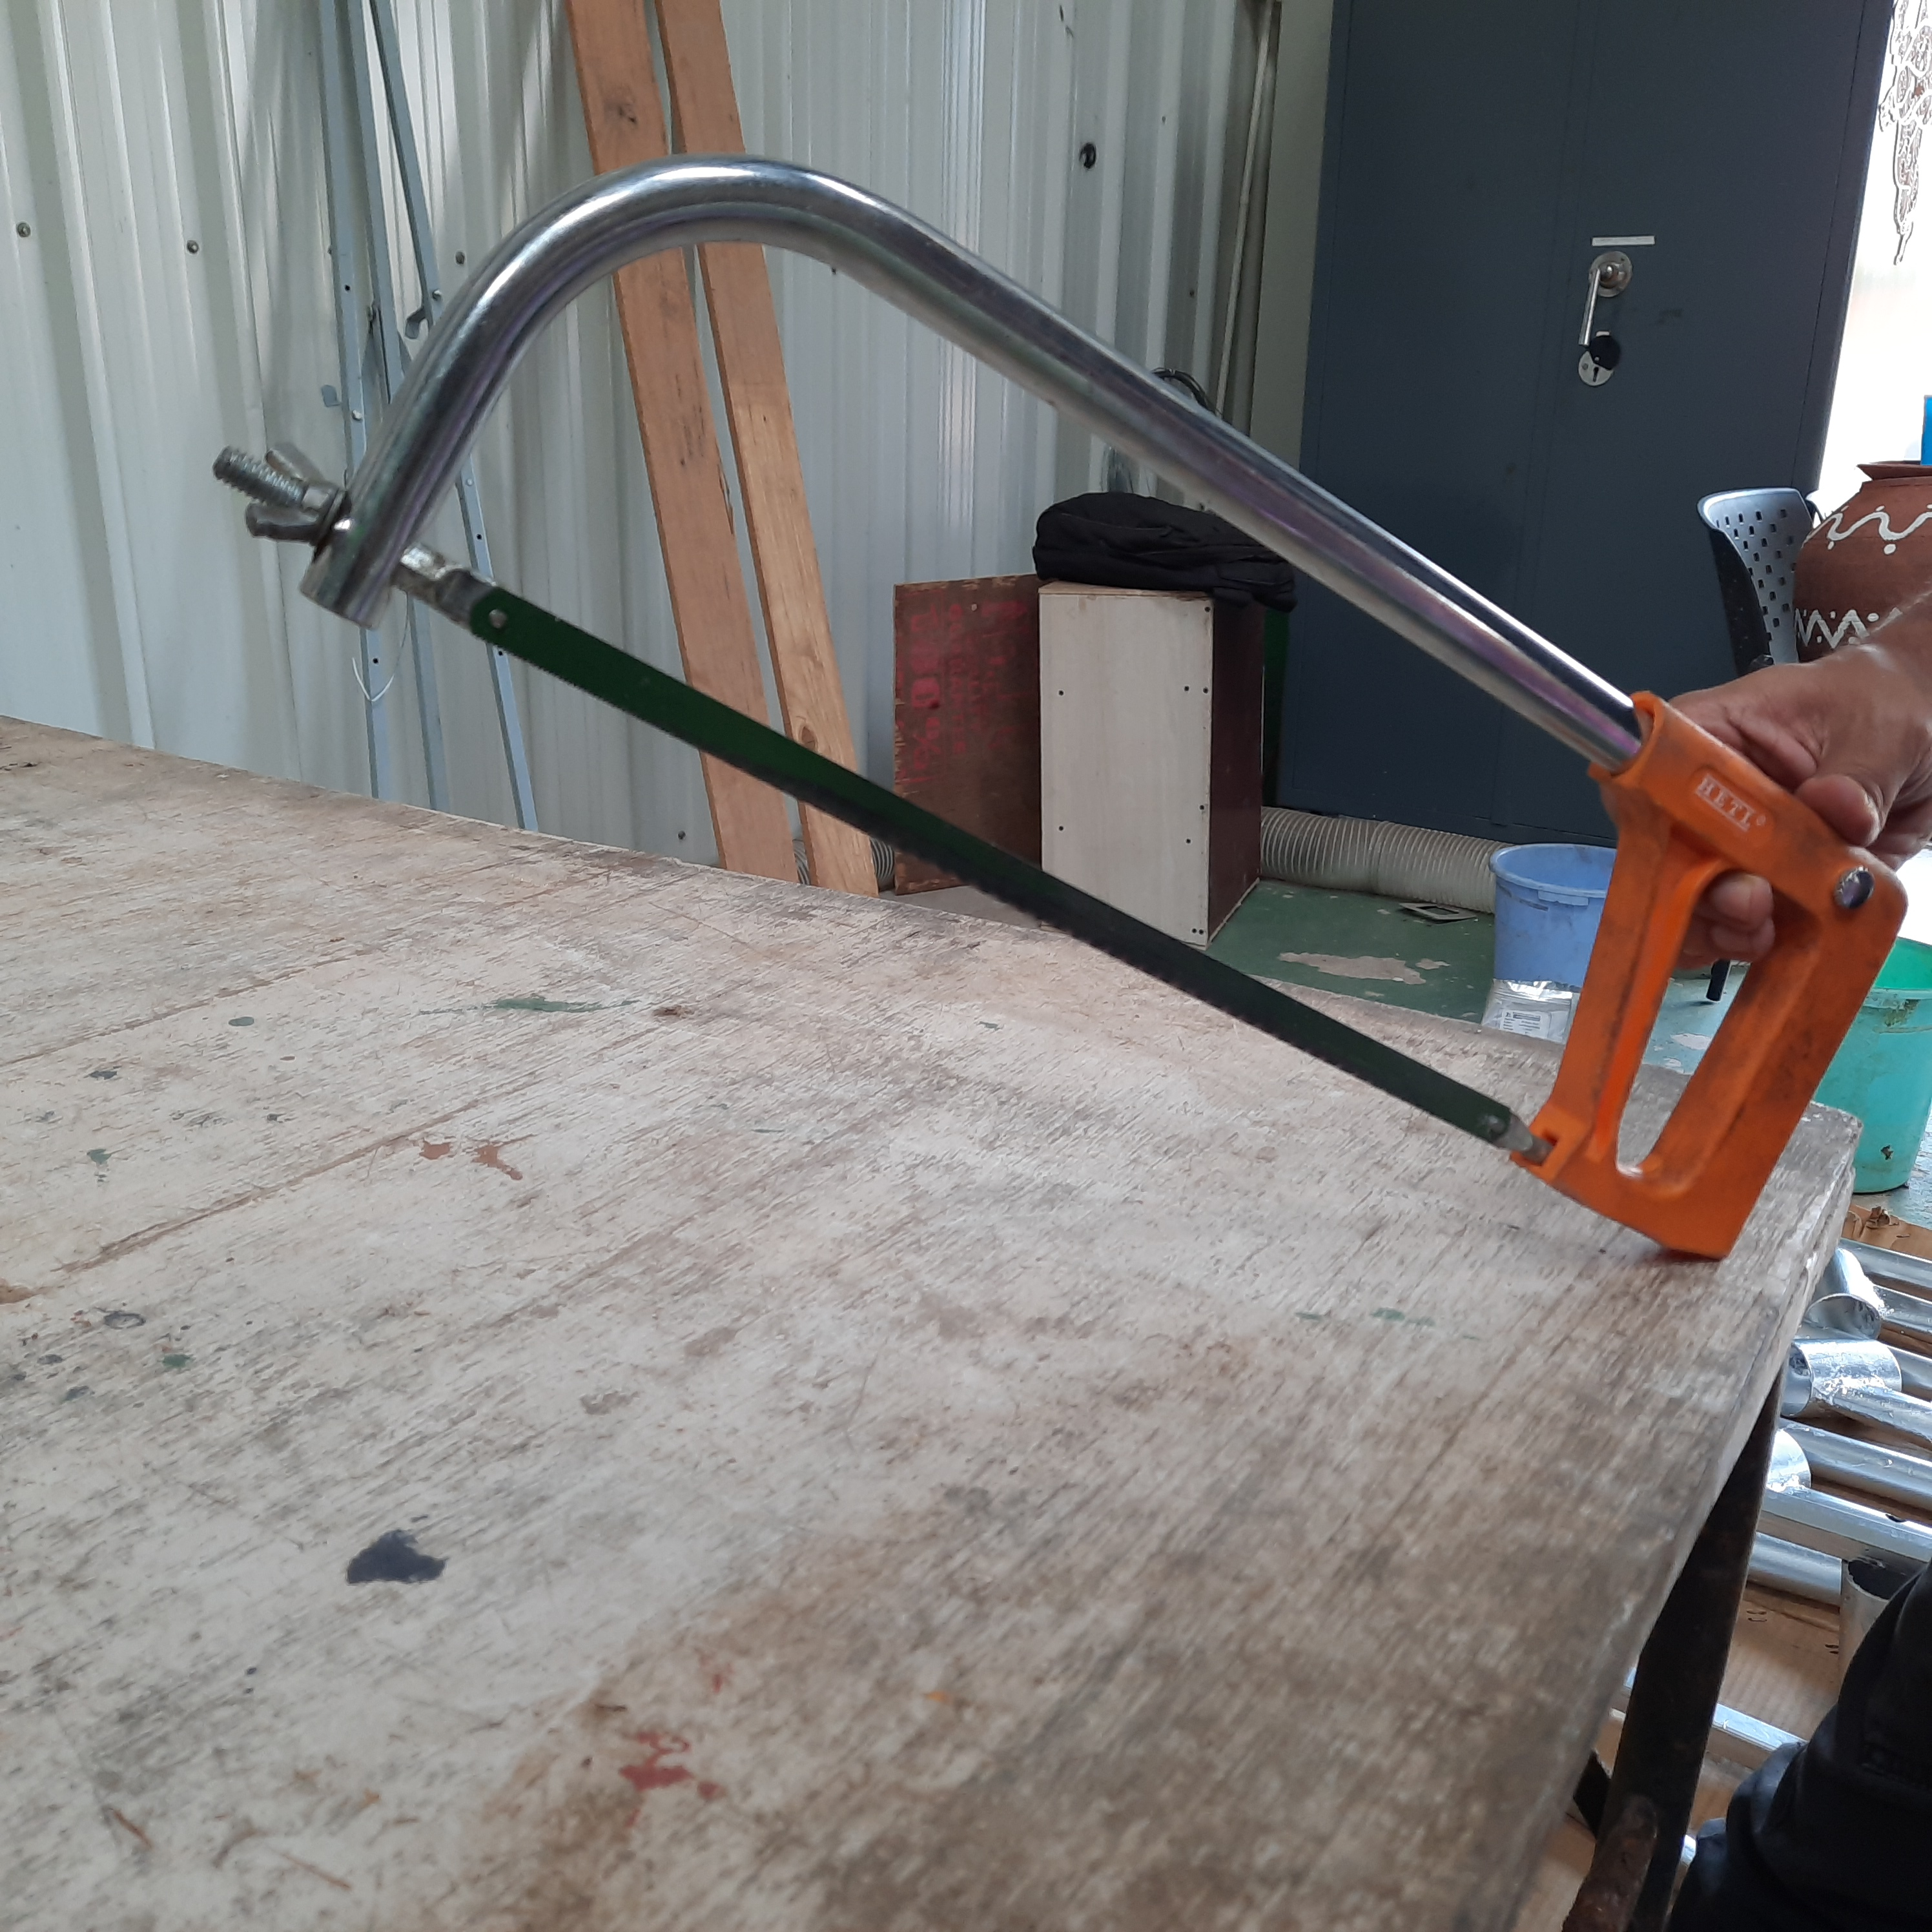Hexaframe: (184, 127, 1921, 1292)
